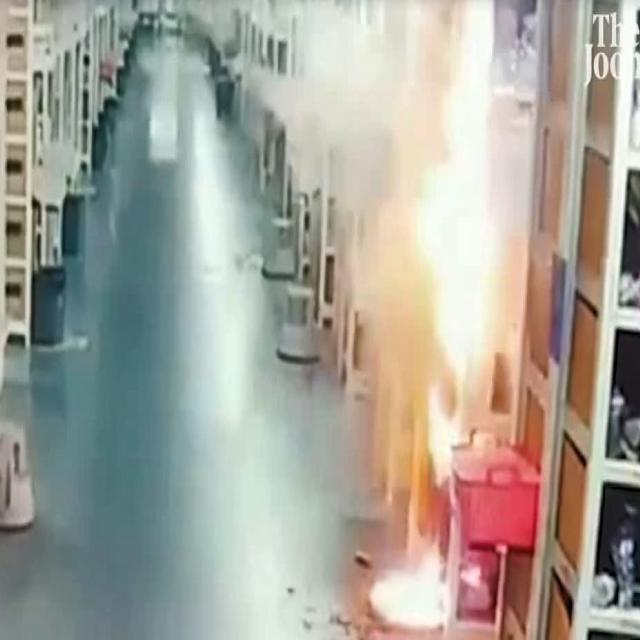Fire: (386, 74, 502, 495)
